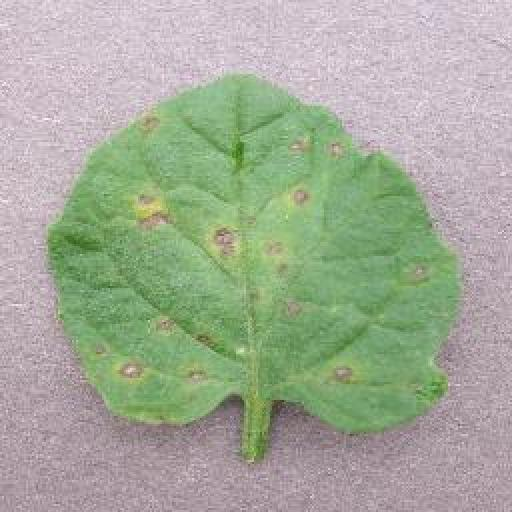disease_tomato: (49, 69, 460, 435)
